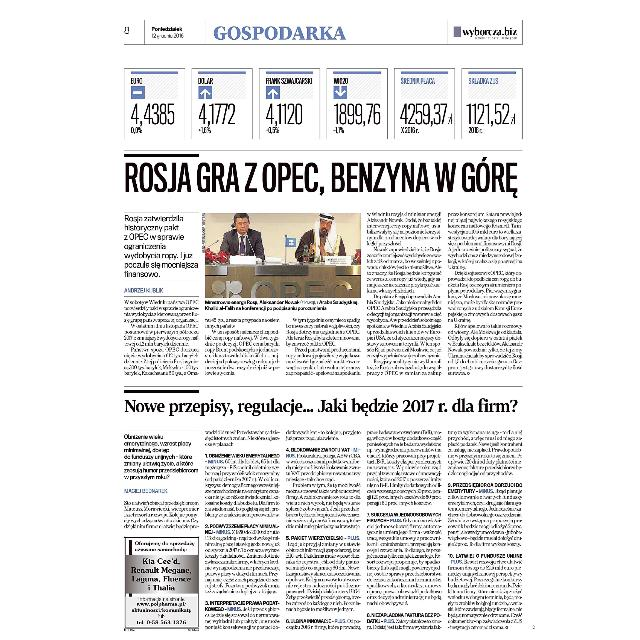article: (121, 387, 526, 633), (124, 153, 524, 380)
